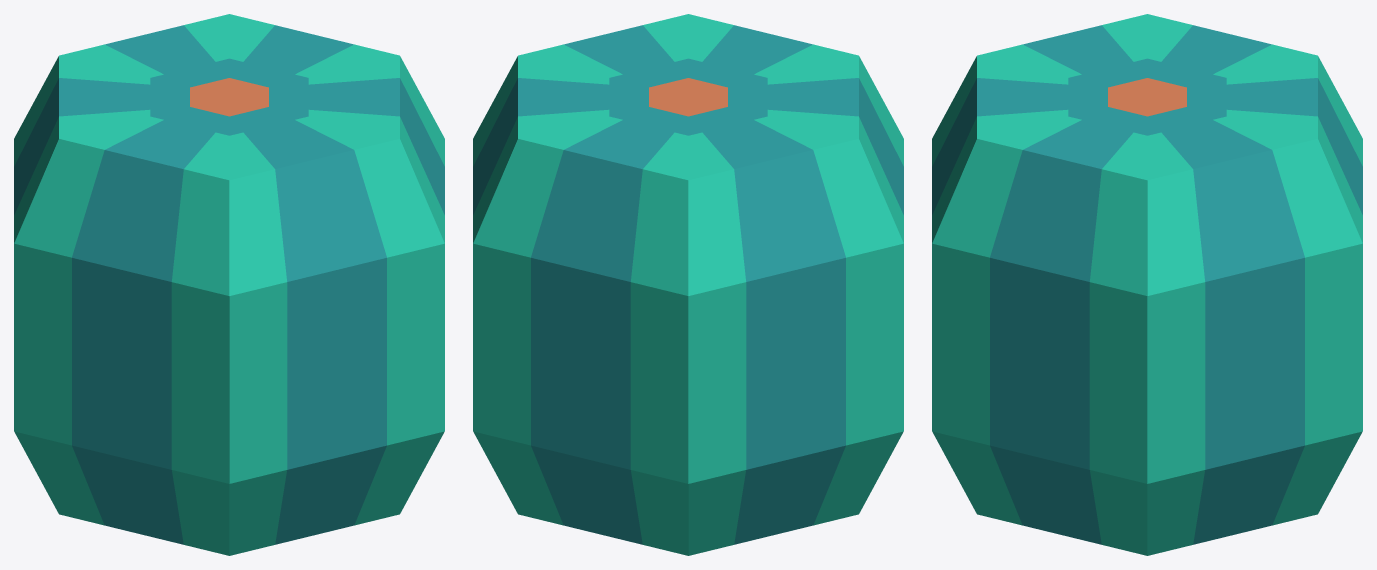
Rendered from crop_melon.obj.
3 renders of one model, left to right at view 1: azimuth 30°, elevation 25°; view 2: azimuth 150°, elevation 25°; view 3: azimuth 270°, elevation 25°, orthographic.
Parts seen in each view (by area): view 1: crop_melon; view 2: crop_melon; view 3: crop_melon.
Part boxes in pixels (box(x1,y1,x2,y2)): crop_melon: box(14, 14, 444, 555); crop_melon: box(473, 14, 903, 555); crop_melon: box(932, 14, 1362, 555).
Size of the model in its own units: 0.4176 by 0.348 by 0.3617.
